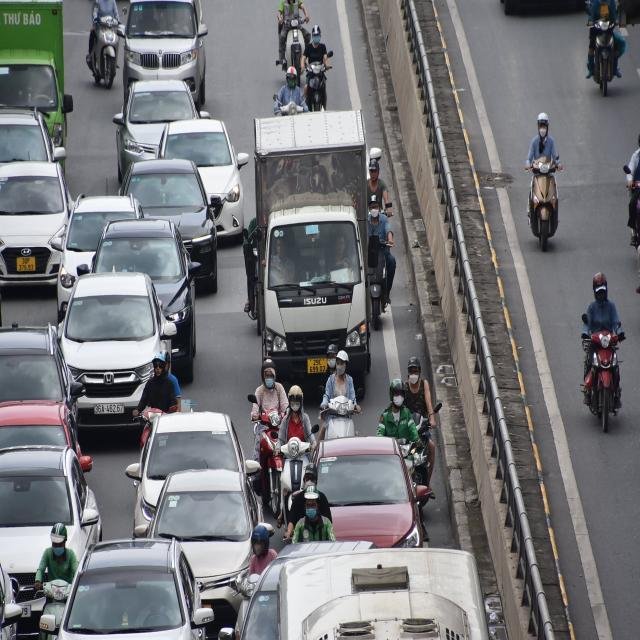Truck: (254, 111, 372, 378)
car: (63, 273, 167, 419), (0, 443, 85, 620), (142, 411, 248, 536), (168, 469, 254, 613), (87, 533, 194, 640), (158, 124, 242, 223), (70, 177, 143, 283), (94, 228, 195, 304), (0, 169, 65, 279), (128, 161, 210, 243), (127, 2, 201, 80), (120, 85, 197, 151), (0, 313, 56, 399)
motobyte: (579, 258, 626, 441), (393, 361, 440, 506), (249, 358, 286, 495), (528, 114, 560, 237), (280, 397, 315, 495), (588, 0, 622, 89), (90, 0, 119, 85), (327, 360, 355, 440), (304, 24, 328, 101), (282, 2, 306, 74)
